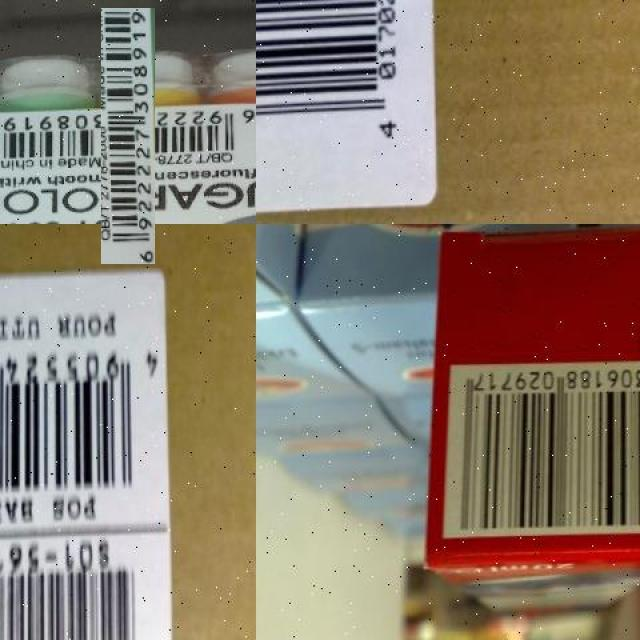Barcode: (445, 360, 640, 540), (256, 0, 418, 170), (0, 342, 166, 506), (50, 58, 206, 213), (0, 536, 162, 640)
